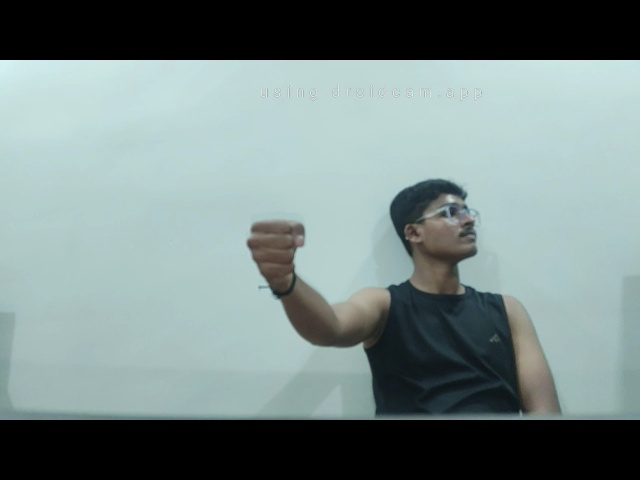yes: (240, 209, 309, 292)
